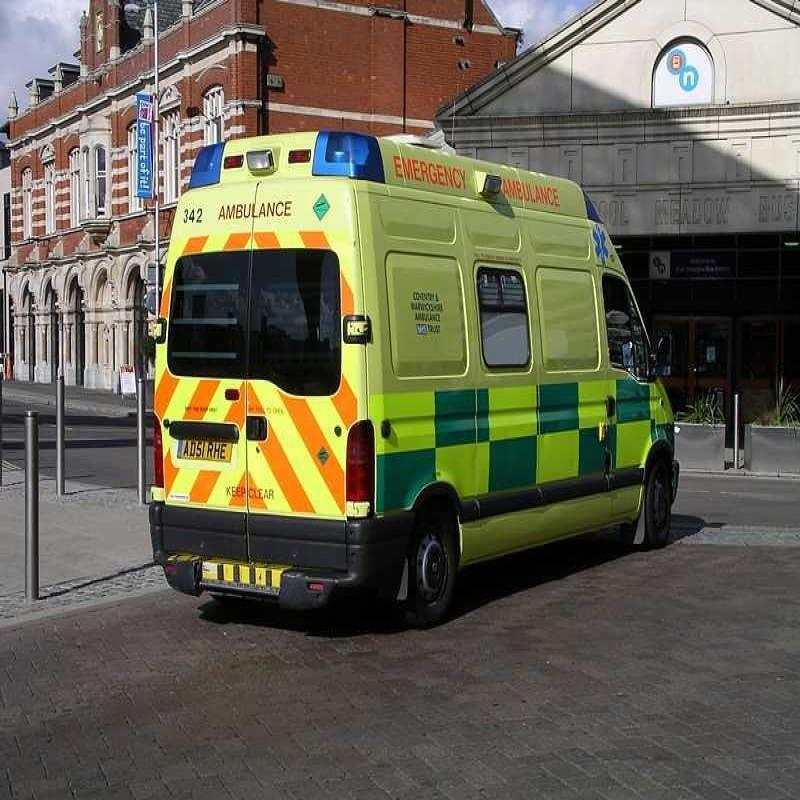AmbulanceSiren: (188, 120, 380, 187)
